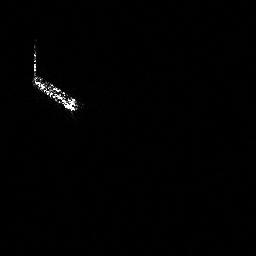ship: (29, 41, 83, 114)
